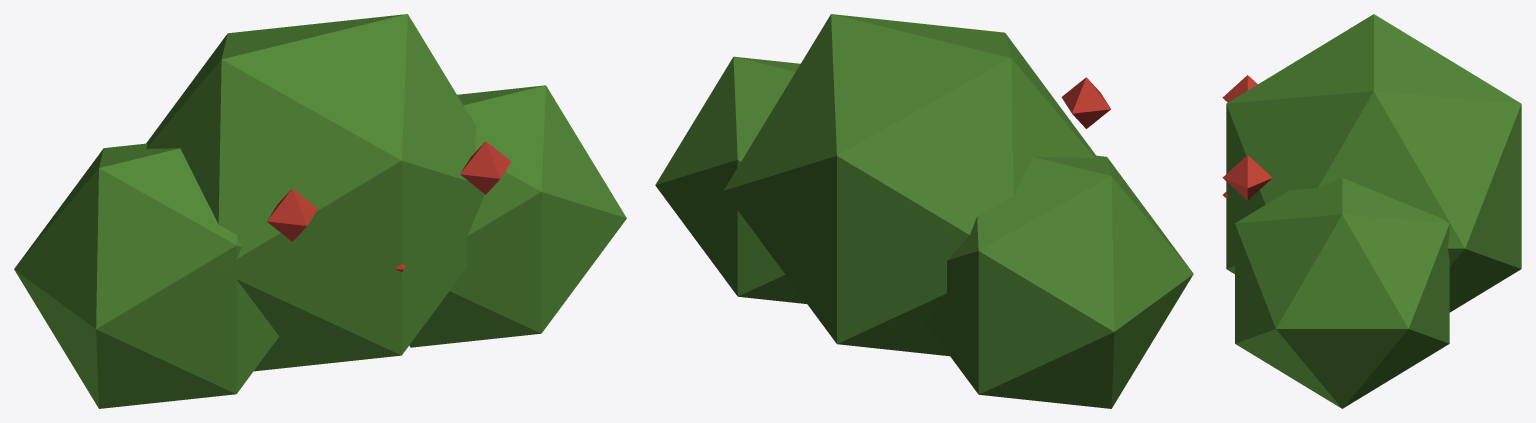
The model's file is biome-orchard-hedge.glb.
The picture shows the model from 3 angles, left to right: view 1: azimuth 30°, elevation 25°; view 2: azimuth 150°, elevation 25°; view 3: azimuth 270°, elevation 25°; orthographic projection. The views are drawn at different scales.
Size of the model in its own units: 1.57 by 0.9752 by 0.9478.
